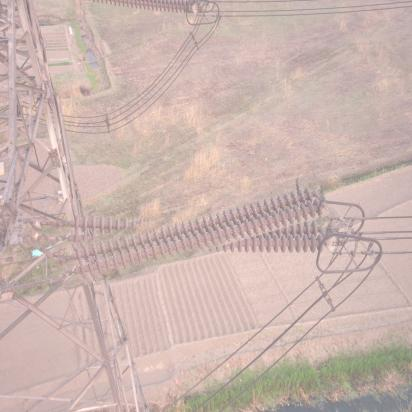insulator: (53, 193, 330, 274)
